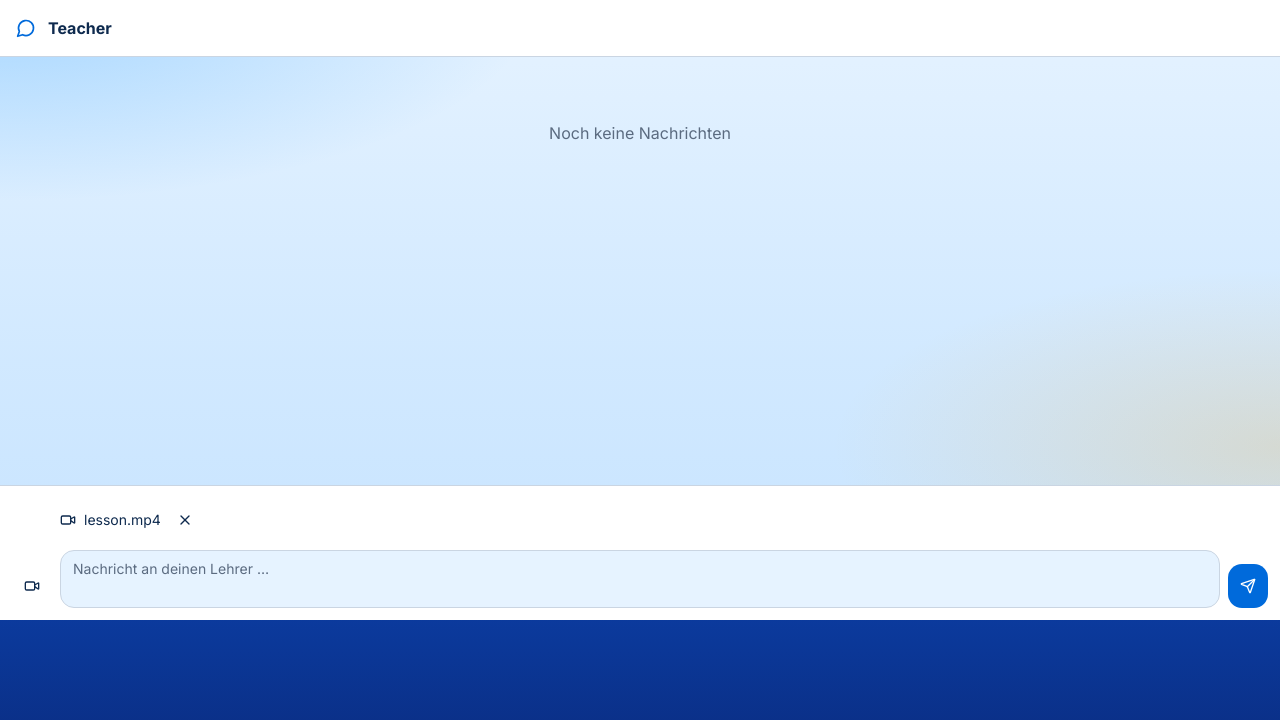
Test: teacher video messaging flow › does not upload when a selected attachment is removed
The width and height of the screenshot is (1280, 720).
Earlier steps of the test are not shown.
expect the button named "Video hinzufügen" is enabled: met, box [12,564,52,608]
Click the button named "Video entfernen". click: click(185, 520)
box: [169,498,201,542]
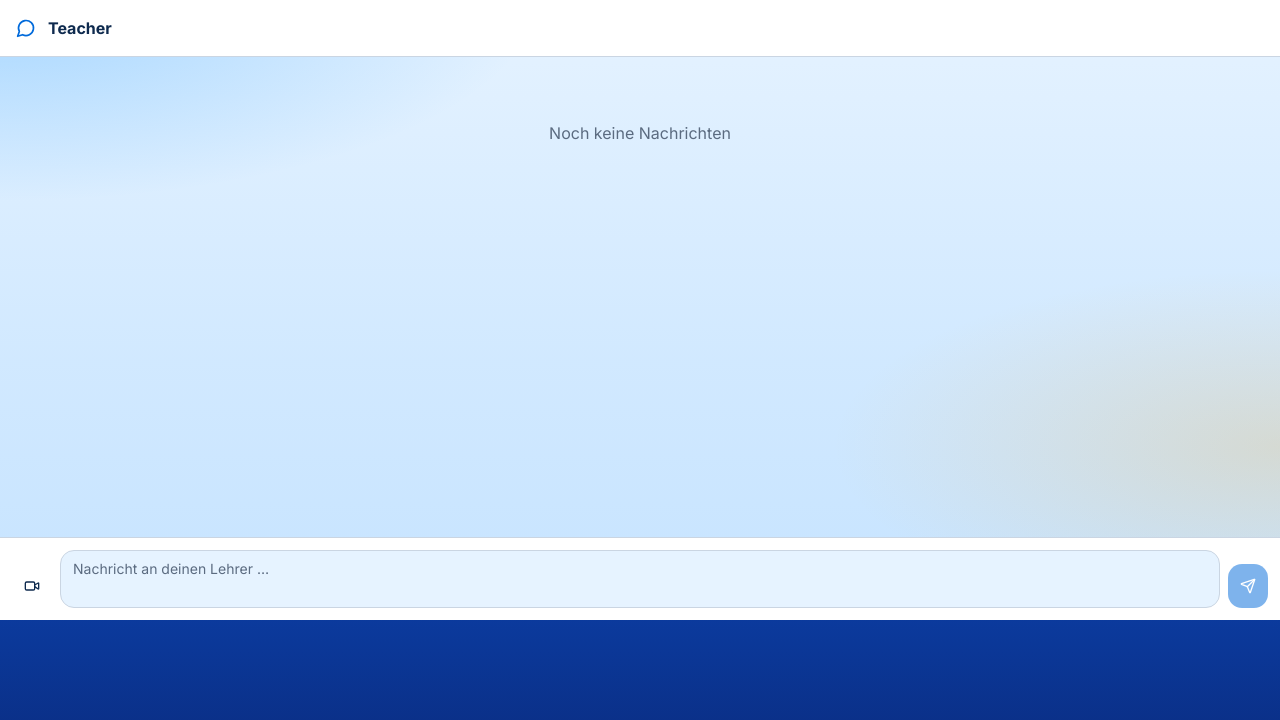
expect the button named "Senden" is disabled: met, box [1228,564,1268,608]
